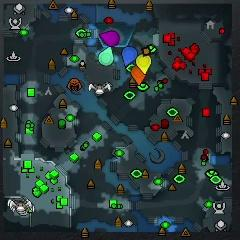p1: (121, 46, 137, 64)
p2: (99, 47, 113, 66)
p3: (99, 31, 119, 46)
p4: (135, 53, 151, 75)
p5: (131, 65, 145, 84)
